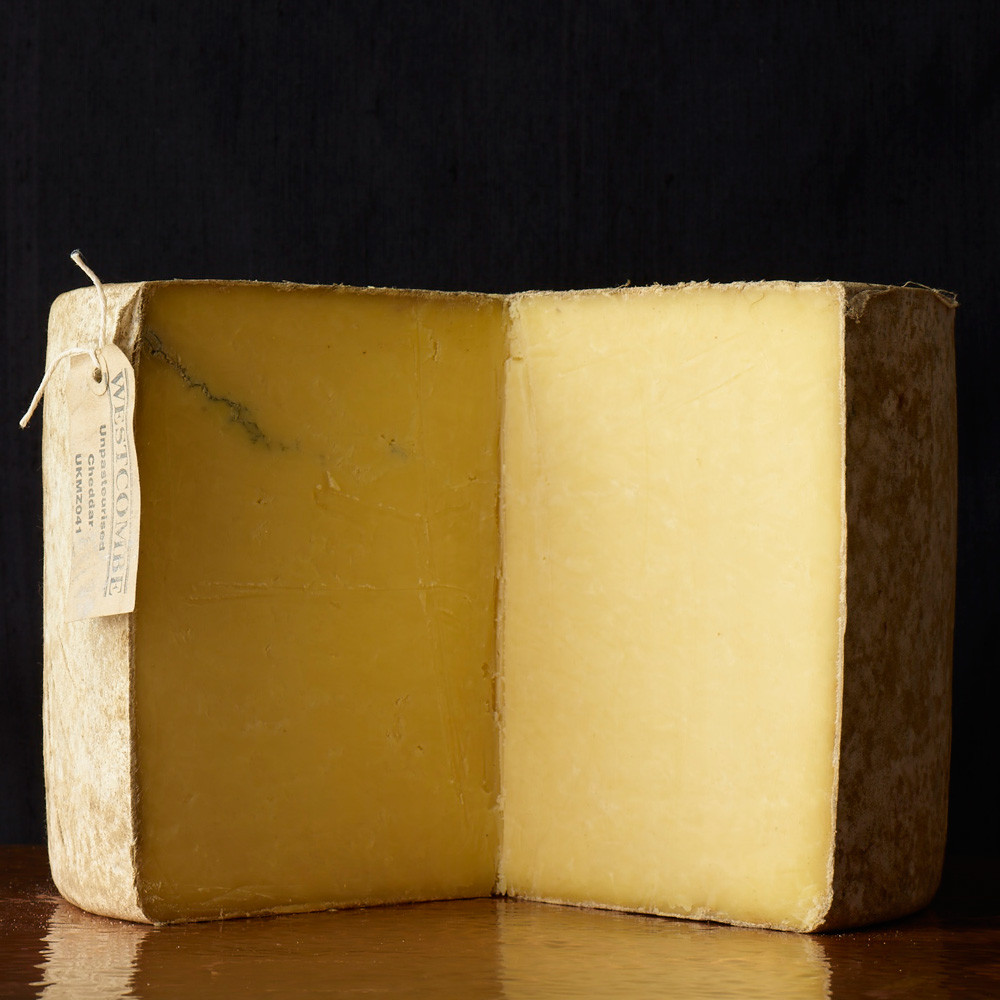cheese: (41, 278, 965, 941)
